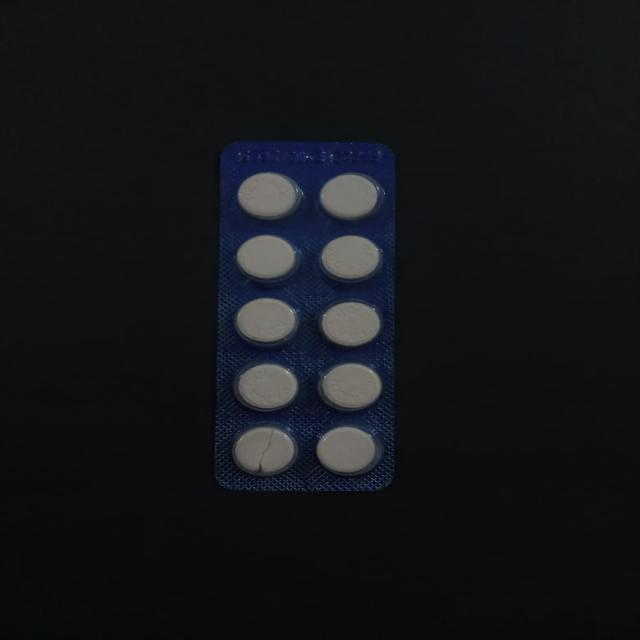defect: (229, 423, 301, 478)
